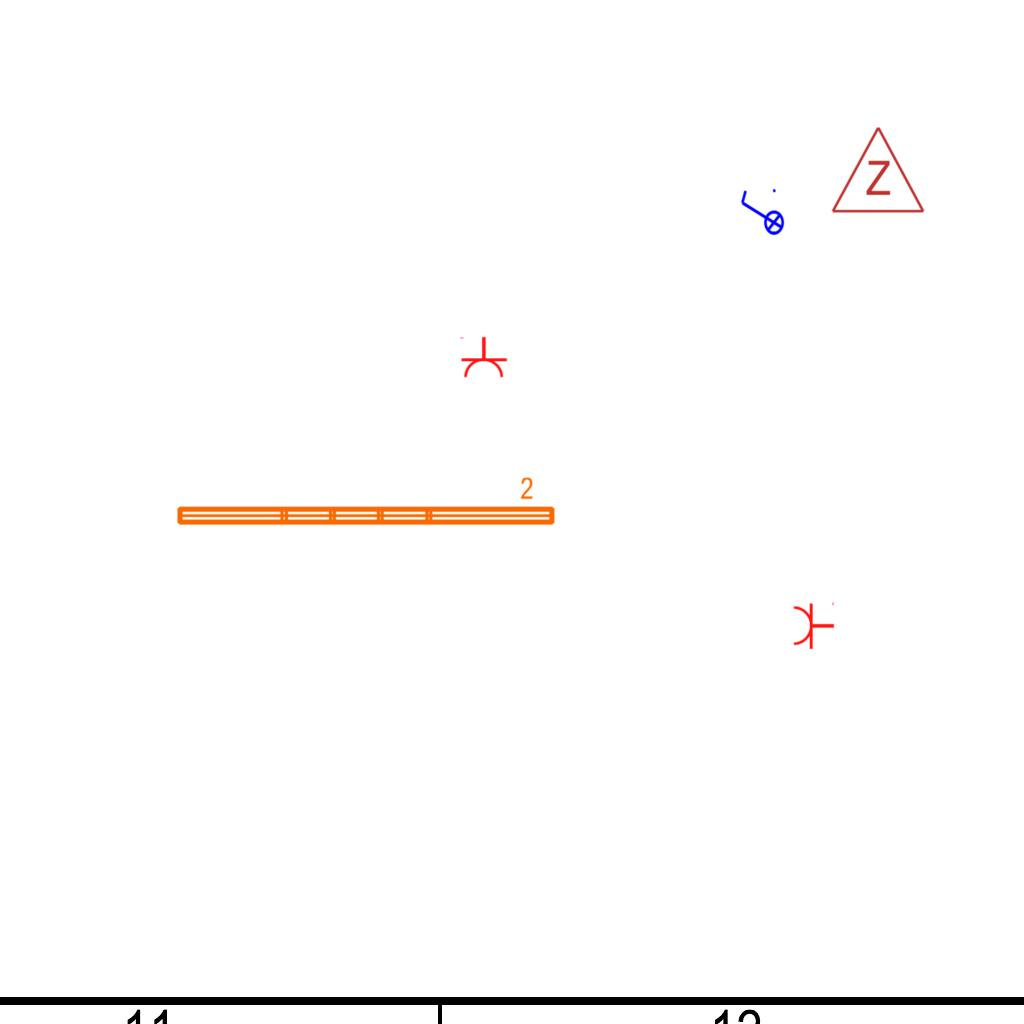Ambulanz_Pendelleuchte_LED: (172, 475, 559, 531)
Ausschalter_beleuchtet: (737, 186, 785, 242)
Schukosteckdose_einfach: (792, 600, 835, 650), (458, 336, 508, 379)
Zimmersignalleuchte: (828, 120, 926, 220)
